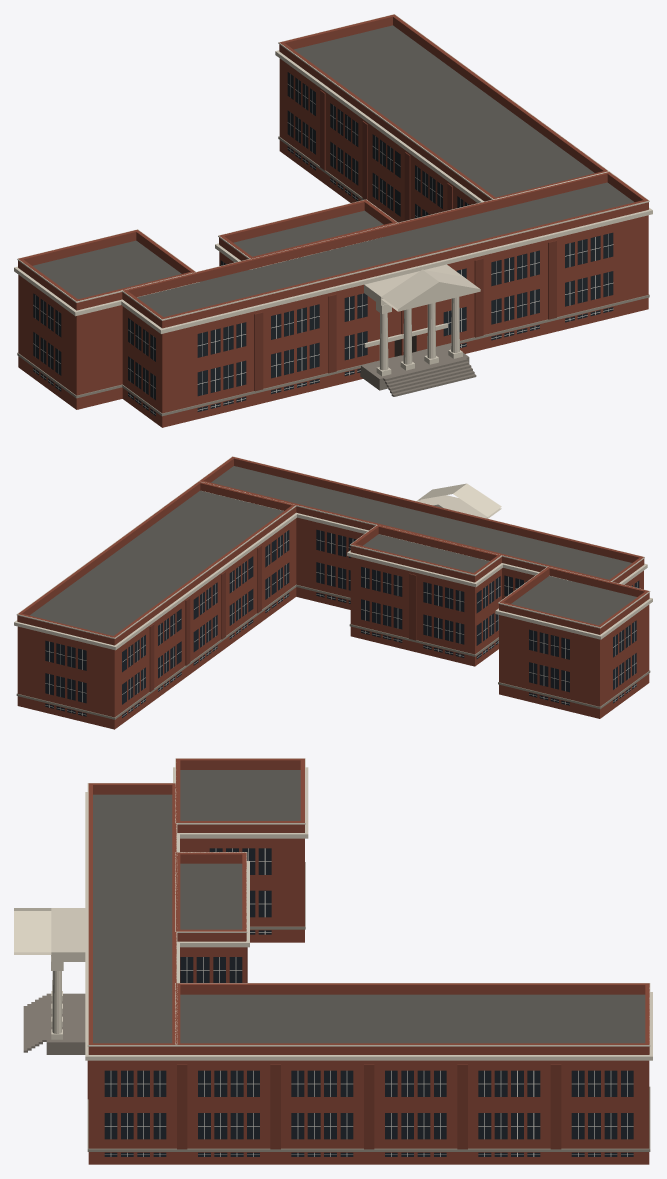
File: clendenin-school-1961.glb
The picture shows the model from 3 angles, top to bottom: view 1: azimuth 30°, elevation 25°; view 2: azimuth 150°, elevation 25°; view 3: azimuth 270°, elevation 25°; orthographic projection. The views are drawn at different scales.
Parts seen in each view (by area): view 1: kit-clendenin-school-1961; view 2: kit-clendenin-school-1961; view 3: kit-clendenin-school-1961.
Boxes of the visible parts, box(x1,y1,x2,y2) form: kit-clendenin-school-1961: box(14, 14, 652, 427); kit-clendenin-school-1961: box(14, 456, 652, 729); kit-clendenin-school-1961: box(14, 758, 652, 1164).
Size of the model in its own units: 58.6 by 11.6 by 54.7.
